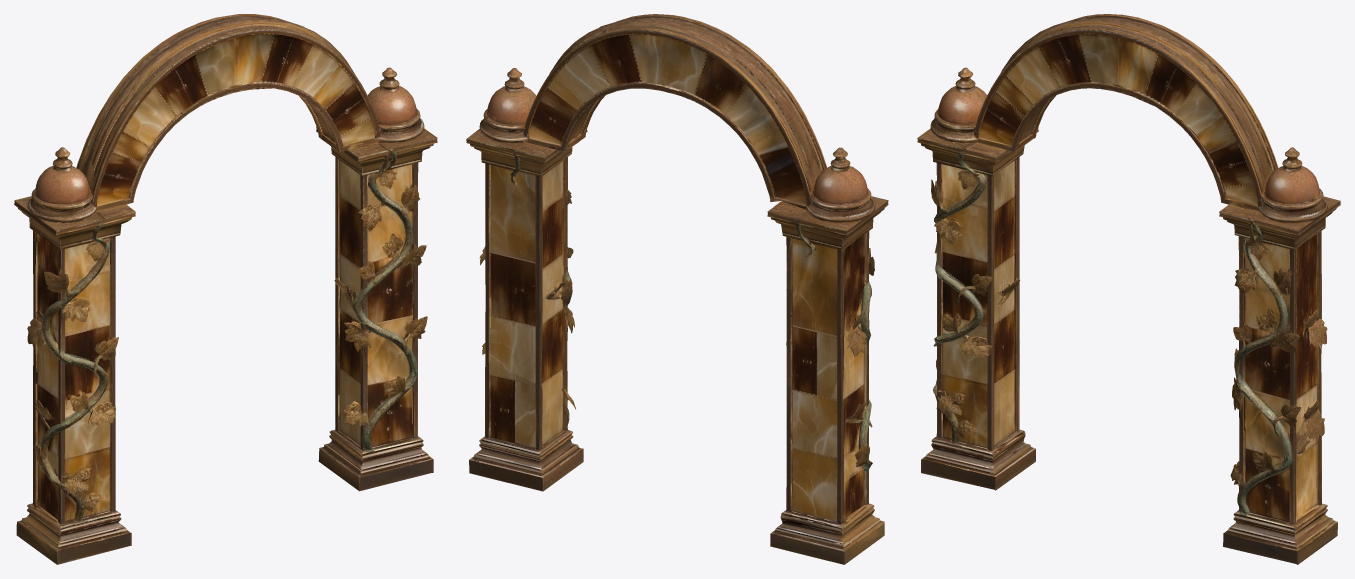
Rendered from P1_gate_horn_game.glb.
The picture shows the model from 3 angles, left to right: view 1: azimuth 30°, elevation 25°; view 2: azimuth 150°, elevation 25°; view 3: azimuth 330°, elevation 25°; orthographic projection.
Parts seen in each view (by area): view 1: P1_gate_horn; view 2: P1_gate_horn; view 3: P1_gate_horn.
Boxes of the visible parts, box(x1,y1,x2,y2) form: P1_gate_horn: box(14, 14, 437, 564); P1_gate_horn: box(466, 14, 888, 564); P1_gate_horn: box(917, 14, 1340, 564).
Size of the model in its own units: 2.78 by 3.3 by 0.5316.
1 material, 1 textured.
